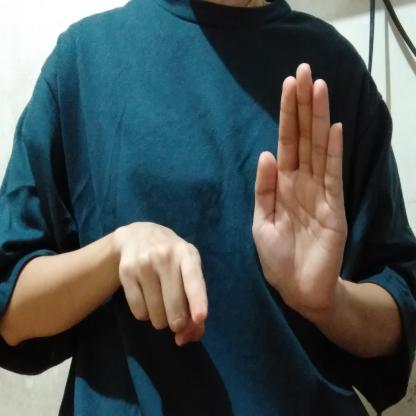stop: (108, 58, 352, 375)
